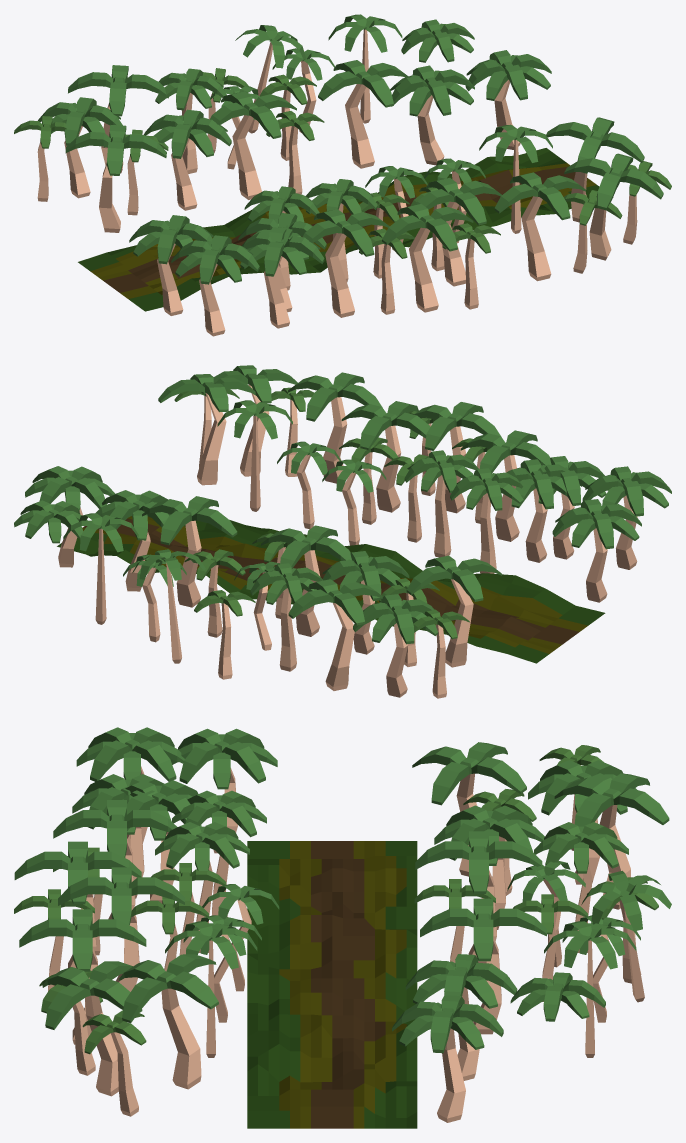
3 views of the same model, one above another, from view 1: azimuth 30°, elevation 25°; view 2: azimuth 150°, elevation 25°; view 3: azimuth 270°, elevation 25° (orthographic). The views are drawn at different scales.
Visible parts, largest first — view 1: Plane.004, tree_palmShort.003, tree_palmShort.002, tree_palmShort.001, tree_palmShort.006, tree_palmShort, tree_palmShort.008, tree_palmShort.004, tree_palmShort.007, tree_palmShort.009, tree_palmShort.005, tree_palm (+47 smaller); view 2: Plane.004, tree_palmShort.005, tree_palmShort.001, tree_palmShort.004, tree_palmShort.007, tree_palmShort.003, tree_palmShort.006, tree_palmShort.009, tree_palmShort, tree_palmShort.002, tree_palmShort.008, tree_palm.001 (+50 smaller); view 3: Plane.004, tree_palmShort.009, tree_palmShort.008, tree_palmShort.004, tree_palmShort.005, tree_palmShort.001, tree_palmShort.007, tree_palmShort, tree_palmShort.003, tree_palmShort.006, tree_palm.002, tree_palmShort.002 (+39 smaller).
Boxes of the visible parts, bbox=[...] form: Plane.004: bbox=[78, 148, 613, 311]; tree_palmShort.003: bbox=[494, 172, 585, 281]; tree_palmShort.002: bbox=[382, 204, 473, 312]; tree_palmShort.001: bbox=[318, 60, 409, 168]; tree_palmShort.006: bbox=[303, 209, 389, 317]; tree_palmShort: bbox=[210, 91, 296, 199]; tree_palmShort.008: bbox=[564, 153, 663, 260]; tree_palmShort.004: bbox=[65, 125, 166, 232]; tree_palmShort.007: bbox=[415, 177, 501, 286]; tree_palmShort.009: bbox=[546, 117, 644, 222]; tree_palmShort.005: bbox=[68, 65, 168, 173]; tree_palm: bbox=[479, 124, 552, 233]; Plane.004: bbox=[57, 515, 605, 663]; tree_palmShort.005: bbox=[288, 579, 382, 690]; tree_palmShort.001: bbox=[142, 496, 237, 607]; tree_palmShort.004: bbox=[406, 555, 501, 667]; tree_palmShort.007: bbox=[341, 401, 430, 512]; tree_palmShort.003: bbox=[287, 372, 382, 483]; tree_palmShort.006: bbox=[460, 430, 551, 541]; tree_palmShort.009: bbox=[158, 374, 256, 485]; tree_palmShort: bbox=[261, 525, 351, 636]; tree_palmShort.002: bbox=[414, 402, 501, 513]; tree_palmShort.008: bbox=[201, 365, 302, 476]; tree_palm.001: bbox=[63, 513, 138, 624]; Plane.004: bbox=[247, 841, 417, 1128]; tree_palmShort.009: bbox=[119, 954, 218, 1089]; tree_palmShort.008: bbox=[42, 961, 142, 1096]; tree_palmShort.004: bbox=[412, 742, 526, 876]; tree_palmShort.005: bbox=[554, 773, 669, 909]; tree_palmShort.001: bbox=[420, 898, 546, 1034]; tree_palmShort.007: bbox=[58, 867, 184, 991]; tree_palmShort: bbox=[415, 831, 542, 963]; tree_palmShort.003: bbox=[19, 909, 146, 1044]; tree_palmShort.006: bbox=[53, 800, 177, 919]; tree_palm.002: bbox=[581, 870, 671, 1002]; tree_palmShort.002: bbox=[14, 841, 141, 967].
Bounding box in the file's own units: 85.66 × 18.44 × 77.33.
